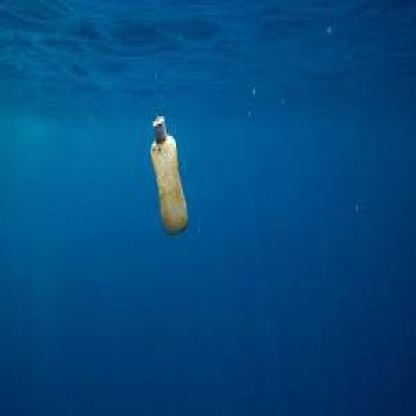pbottle: (143, 99, 197, 245)
